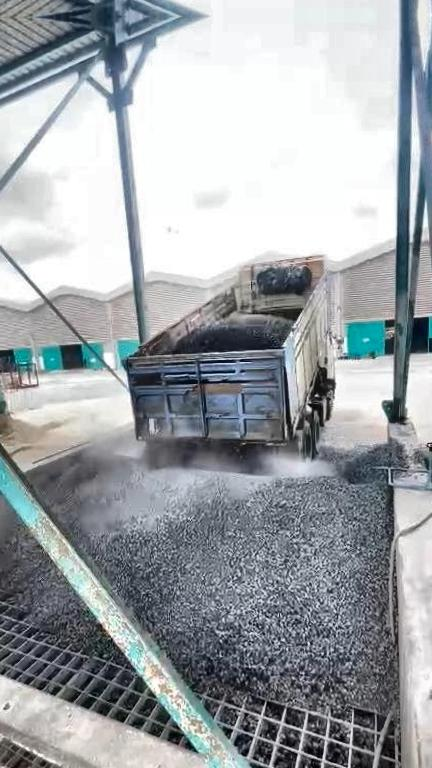gravel: (32, 427, 407, 714), (0, 503, 114, 655), (174, 314, 294, 352)
sand: (0, 415, 88, 463)
